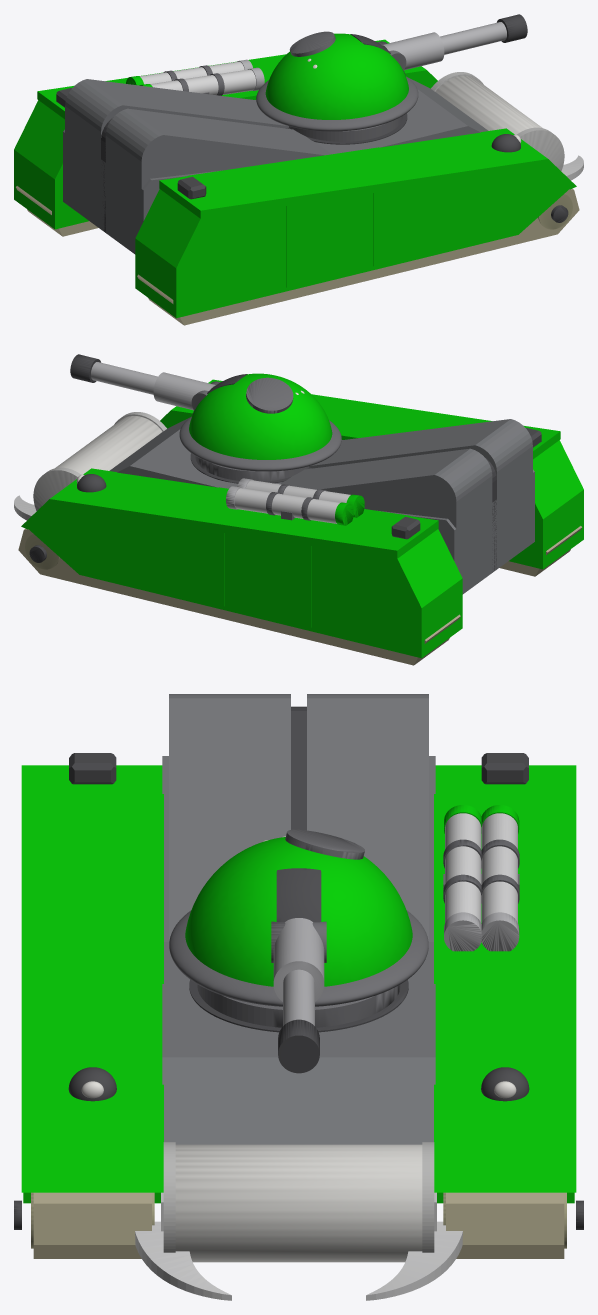
The model's file is tick-tank.glb.
The picture shows the model from 3 angles, top to bottom: view 1: azimuth 30°, elevation 25°; view 2: azimuth 150°, elevation 25°; view 3: azimuth 270°, elevation 25°; orthographic projection. The views are drawn at different scales.
Visible parts, largest first — view 1: skirt_r, top_r, ramp_r, turret_dome, ramp_l, centre_back, skirt_l, track_r, centre_front, drum, turret_skirt, top_l (+13 smaller); view 2: skirt_l, top_l, ramp_l, ramp_r, turret_dome, skirt_r, top_r, track_l, centre_front, drum, centre_back, turret_skirt (+12 smaller); view 3: top_r, top_l, centre_front, drum, ramp_r, ramp_l, turret_dome, nose_r, nose_l, track_r, track_l, turret_skirt (+19 smaller).
Part boxes in pixels (x1,y1,x2,y2): skirt_r: (135,168,569,318); top_r: (159,128,548,218); ramp_r: (105,108,331,247); turret_dome: (265,33,408,119); ramp_l: (65,79,288,228); centre_back: (63,129,220,254); skirt_l: (14,79,431,229); track_r: (137,188,579,325); centre_front: (316,77,488,154); drum: (435,76,542,134); turret_skirt: (256,76,418,131); top_l: (37,39,426,119); skirt_l: (28,508,462,658); top_l: (49,468,438,558); ramp_l: (280,448,492,593); ramp_r: (309,419,532,568); turret_dome: (189,373,332,459); skirt_r: (166,419,583,569); top_r: (171,379,560,459); track_l: (18,528,460,665); centre_front: (109,417,281,488); drum: (55,416,162,474); centre_back: (377,469,534,593); turret_skirt: (179,416,341,471); top_r: (21,765,163,1110); top_l: (434,765,576,1110); centre_front: (162,942,435,1144); drum: (175,1144,422,1262); ramp_r: (169,694,290,948); ramp_l: (307,694,428,948); turret_dome: (185,837,412,986); nose_r: (21,1110,163,1192); nose_l: (434,1110,576,1192); track_r: (33,1192,151,1258); track_l: (446,1192,564,1258); turret_skirt: (169,910,428,1006).
Bounding box in the file's own units: 1.11 × 0.3989 × 0.6928.
